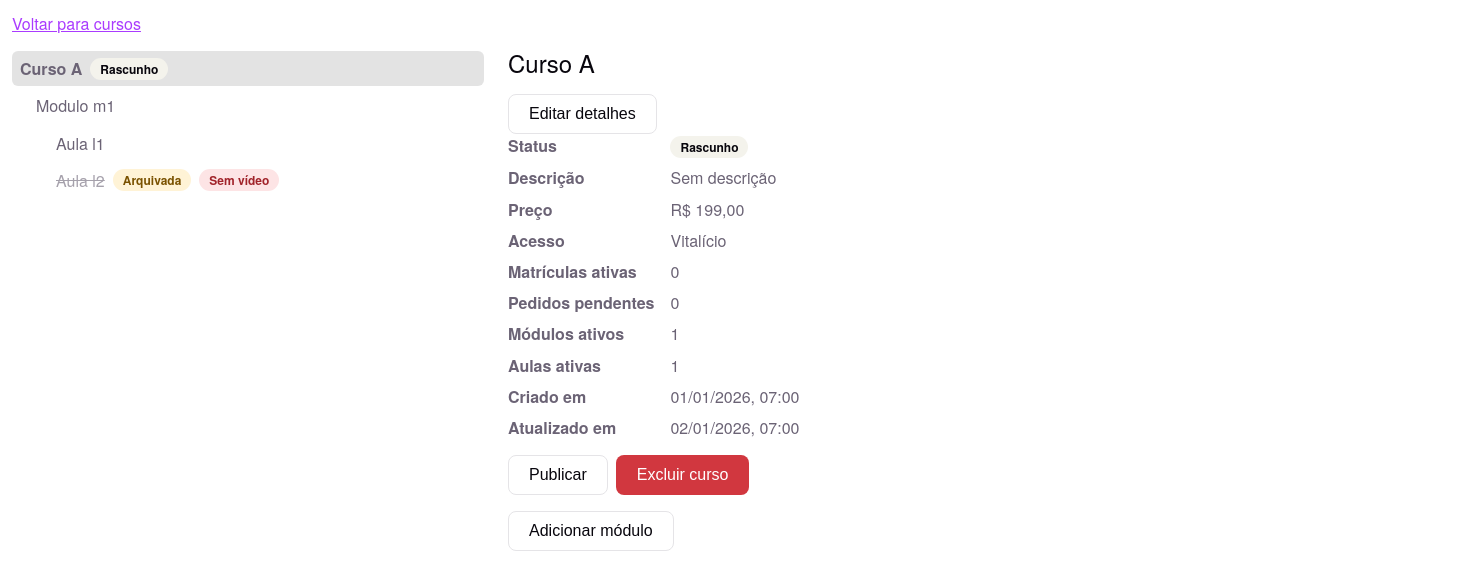
Test: lesson video action › sends the pasted URL with the lesson token and re-reads the tree
The width and height of the screenshot is (1464, 568).
Click the list item "Aula l1" at (80, 143), box [56,132,105,155]
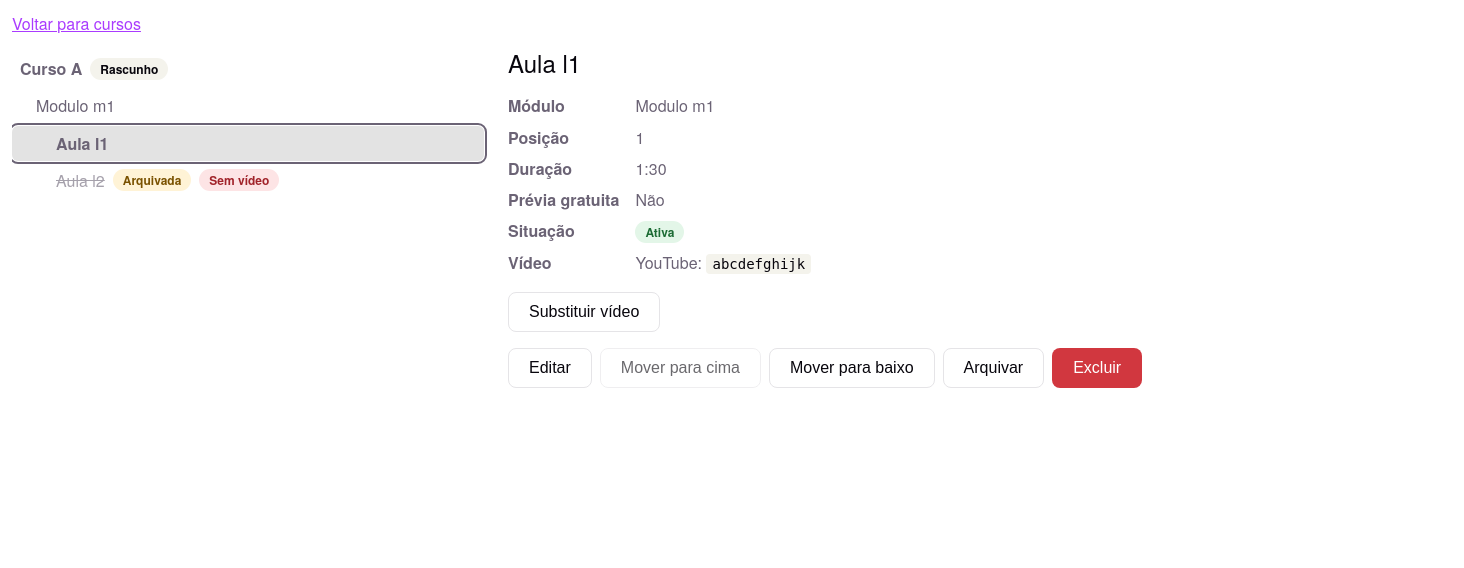
Click the button "Substituir vídeo" at (584, 312), box [508,292,660,332]
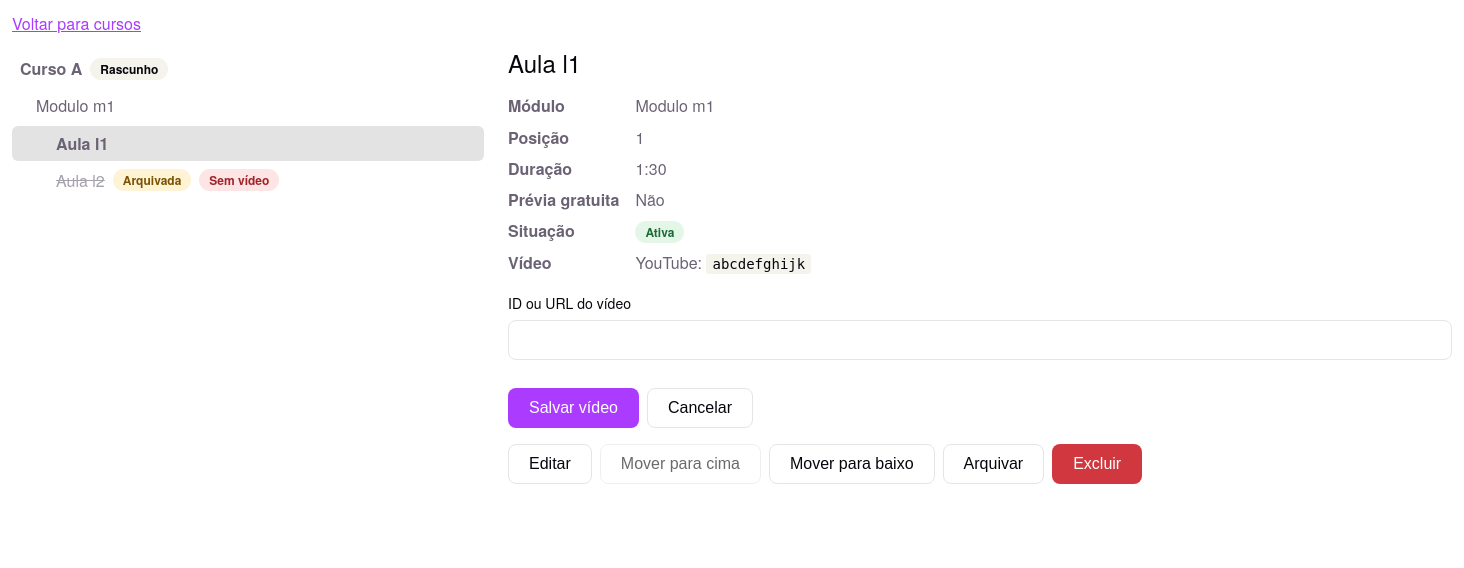
Type "https://youtu.be/dQw4w9WgXcQ?si=abc" into the field labelled "ID ou URL do vídeo" at (980, 340), box [508,320,1452,360]
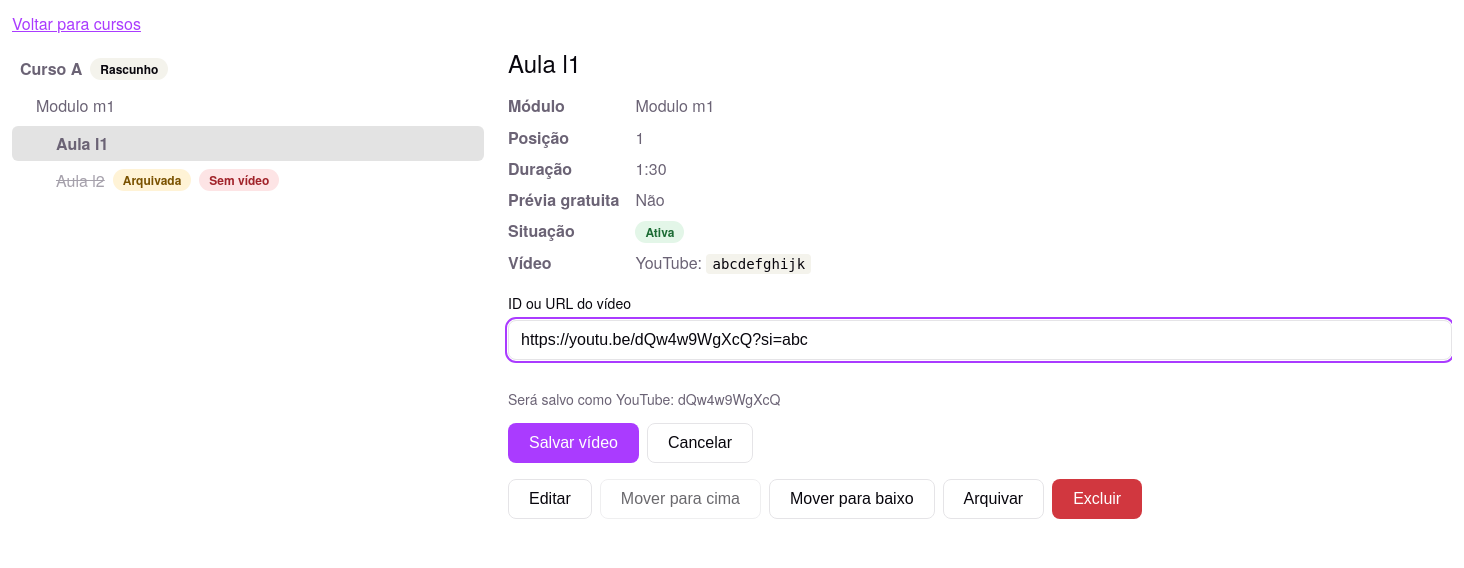
Click the button "Salvar vídeo" at (573, 443), box [508,423,639,463]
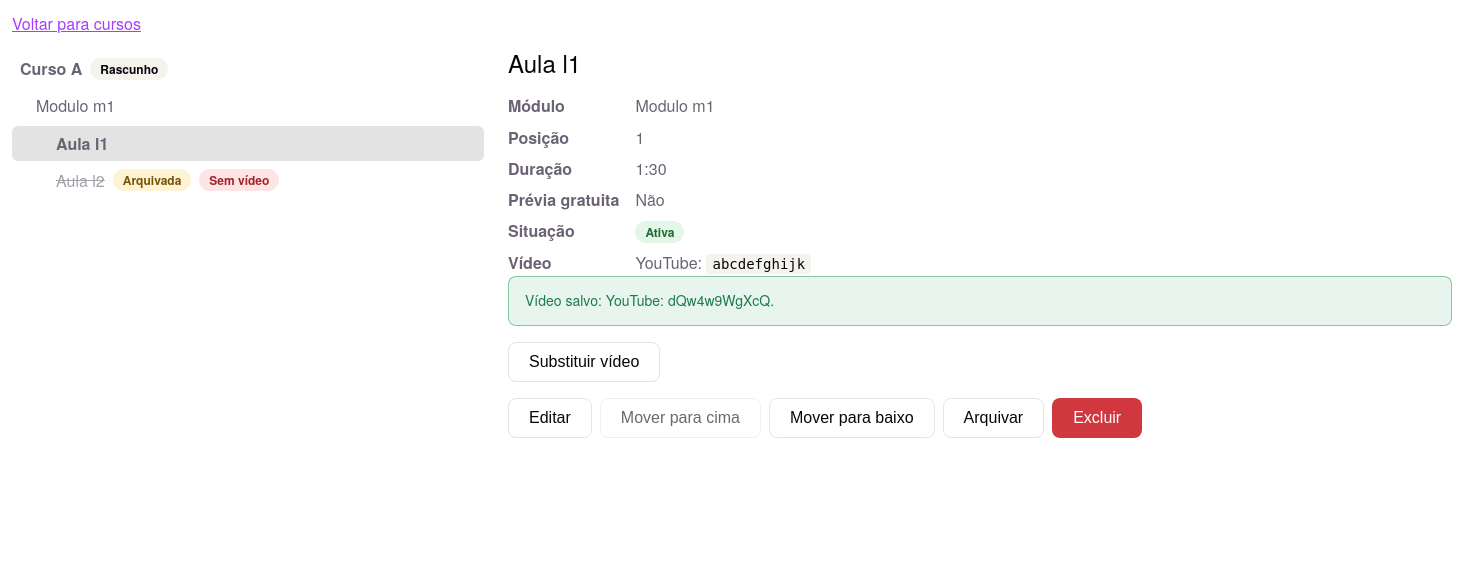
Result: the text "Vídeo salvo: YouTube: dQw4w9WgXcQ." is shown at [508,276,1452,326]
Result: the label labelled "ID ou URL do vídeo" is gone
